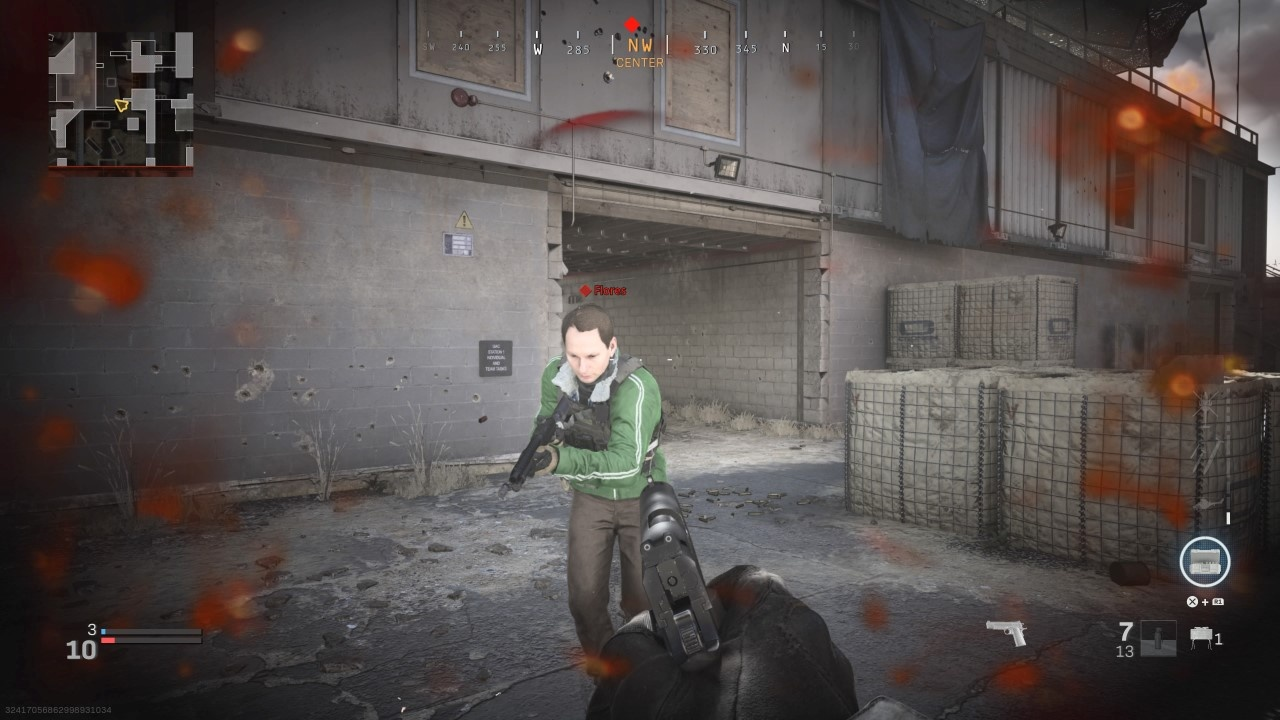head: (558, 301, 622, 388)
person: (496, 293, 668, 648)
